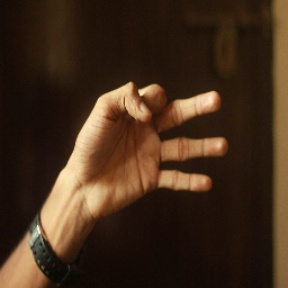K: (73, 80, 231, 209)
